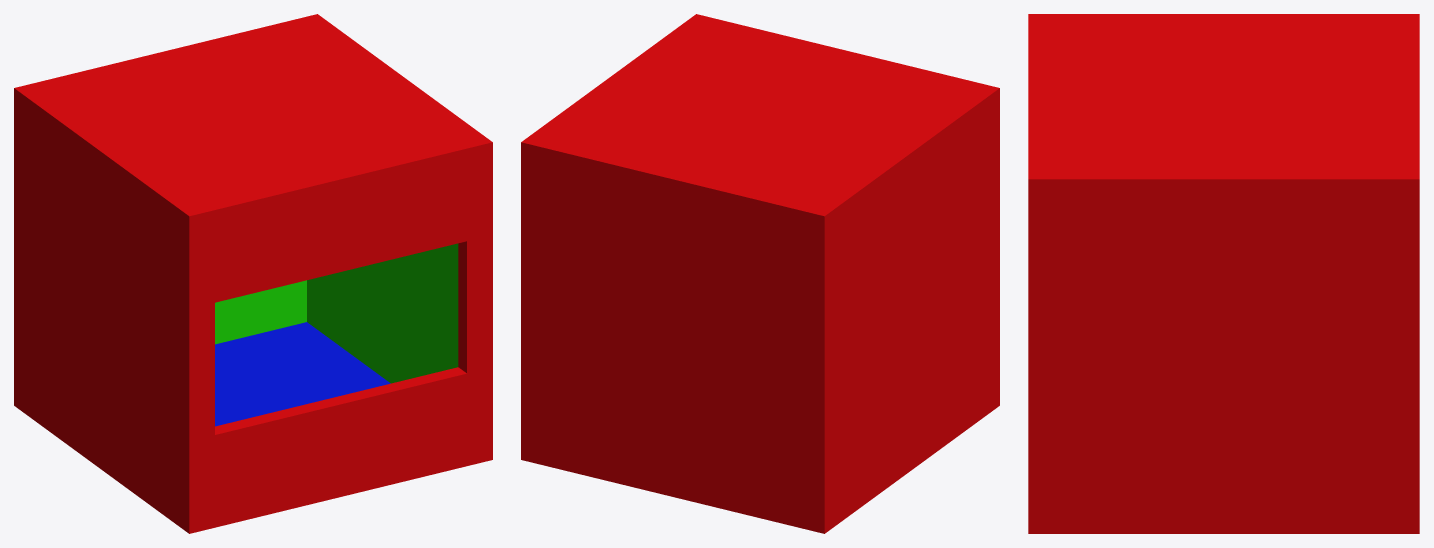
Rendered from generic3x3x3_large_window_holeB.fbx.
3 renders of one model, left to right at view 1: azimuth 30°, elevation 25°; view 2: azimuth 150°, elevation 25°; view 3: azimuth 270°, elevation 25°, orthographic. The views are drawn at different scales.
Parts seen in each view (by area): view 1: Cube.002; view 2: Cube.002; view 3: Cube.002.
Part boxes in pixels (<box>): Cube.002: <box>14,14,492,533</box>; Cube.002: <box>521,14,999,533</box>; Cube.002: <box>1028,14,1419,533</box>.
Size of the model in its own units: 3 by 3 by 3.
